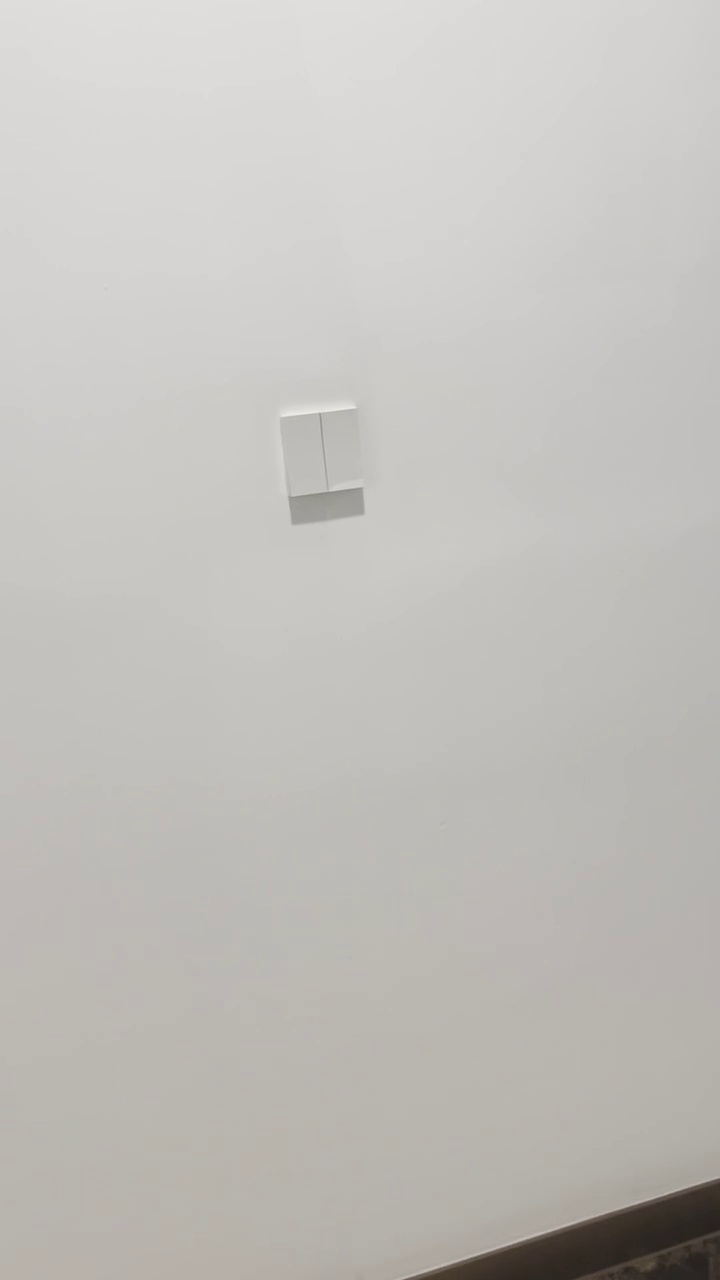button: (274, 402, 367, 498)
